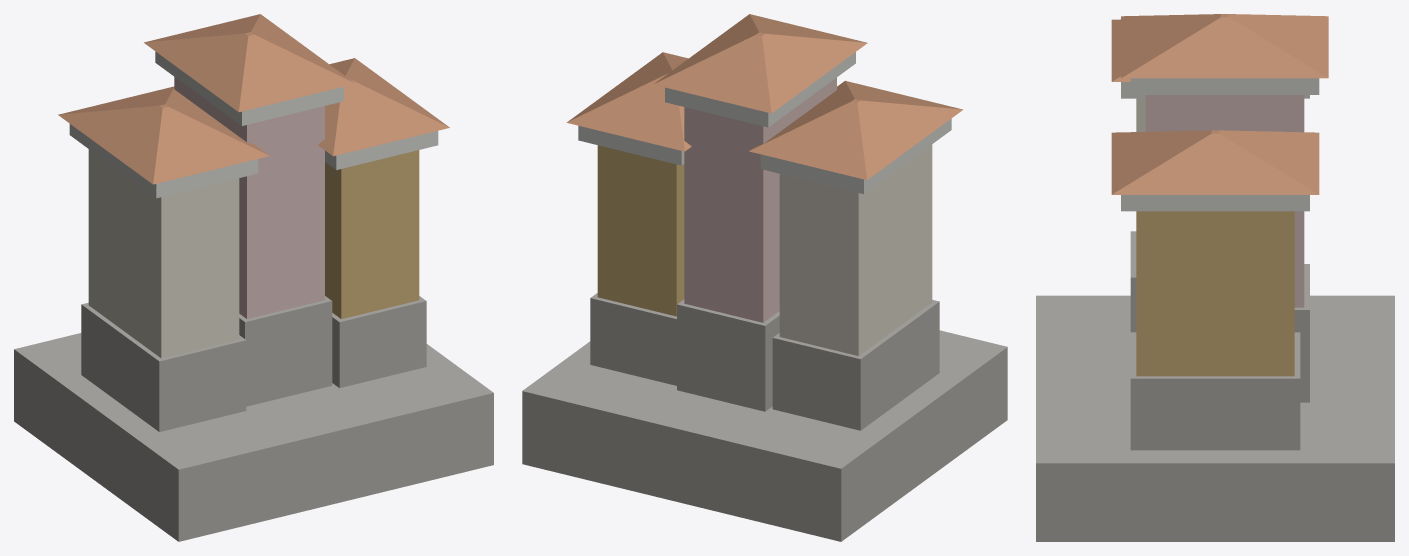
File: house-renaissance-0.glb
3 renders of one model, left to right at view 1: azimuth 30°, elevation 25°; view 2: azimuth 150°, elevation 25°; view 3: azimuth 270°, elevation 25°, orthographic. The views are drawn at different scales.
Visible parts, largest first — view 1: LOD0; view 2: LOD0; view 3: LOD0.
Boxes of the visible parts, x1,y1,x2,y2 form: LOD0: (14,14,493,541); LOD0: (522,14,1007,541); LOD0: (1036,14,1394,541).
Size of what is drawn, in the model's own units: 0.21 by 0.2586 by 0.19.
